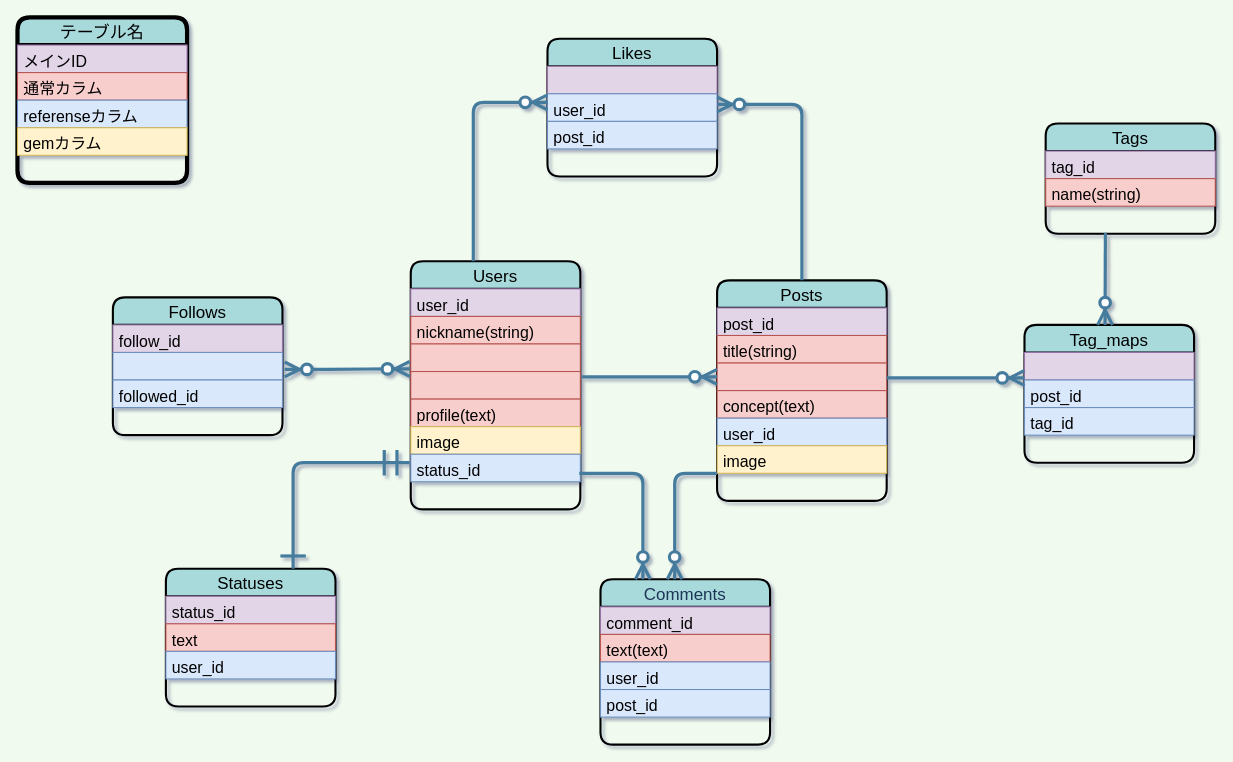
This 1233x762 diagram has some shape labels left out. The shapes that lost their labels are listed below. From the top down, each one's centre as x and y in pixels, then its label:
(631,79): like_id
(197,365): follower_id
(495,357): email(string)
(801,376): catch_copy(text)
(1108,365): tag_map_id
(495,384): password(string)
